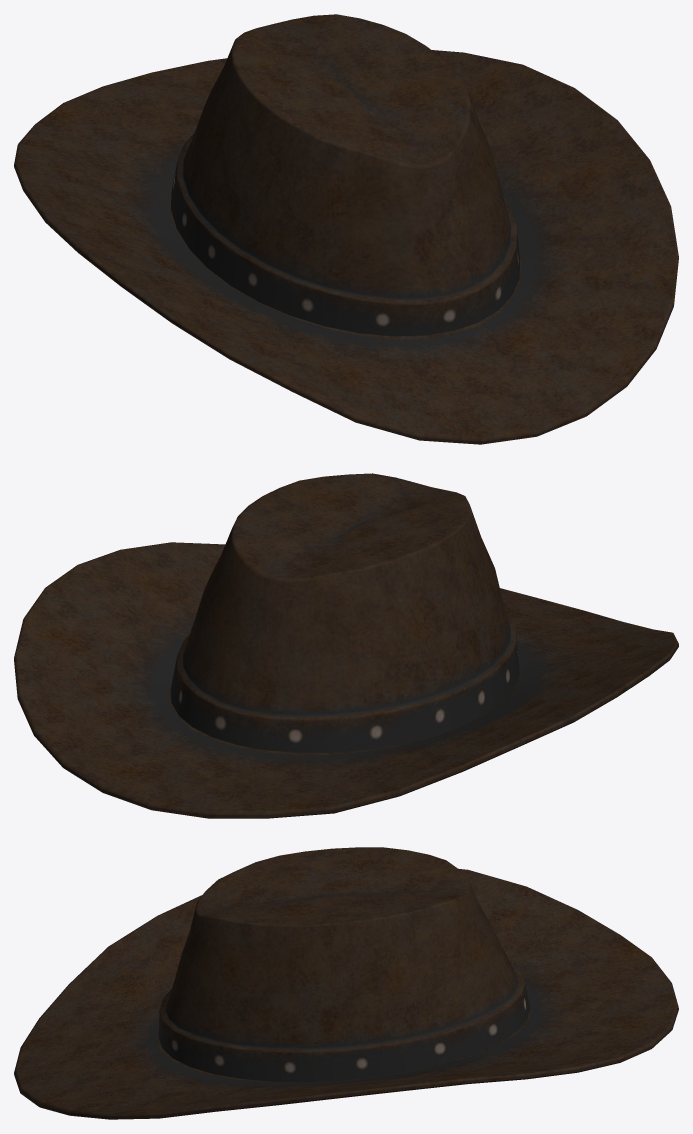
Rendered from CowboyHat.glb.
The picture shows the model from 3 angles, top to bottom: view 1: azimuth 30°, elevation 25°; view 2: azimuth 150°, elevation 25°; view 3: azimuth 270°, elevation 25°; orthographic projection. The views are drawn at different scales.
Visible parts, largest first — view 1: CowBoyHat; view 2: CowBoyHat; view 3: CowBoyHat.
Part boxes in pixels (bbox=[...]): CowBoyHat: bbox=[14, 14, 678, 444]; CowBoyHat: bbox=[14, 473, 678, 818]; CowBoyHat: bbox=[14, 847, 678, 1119].
Bounding box in the file's own units: 37.86 × 15.18 × 46.89.
Materials: 1 (1 with a texture image).
